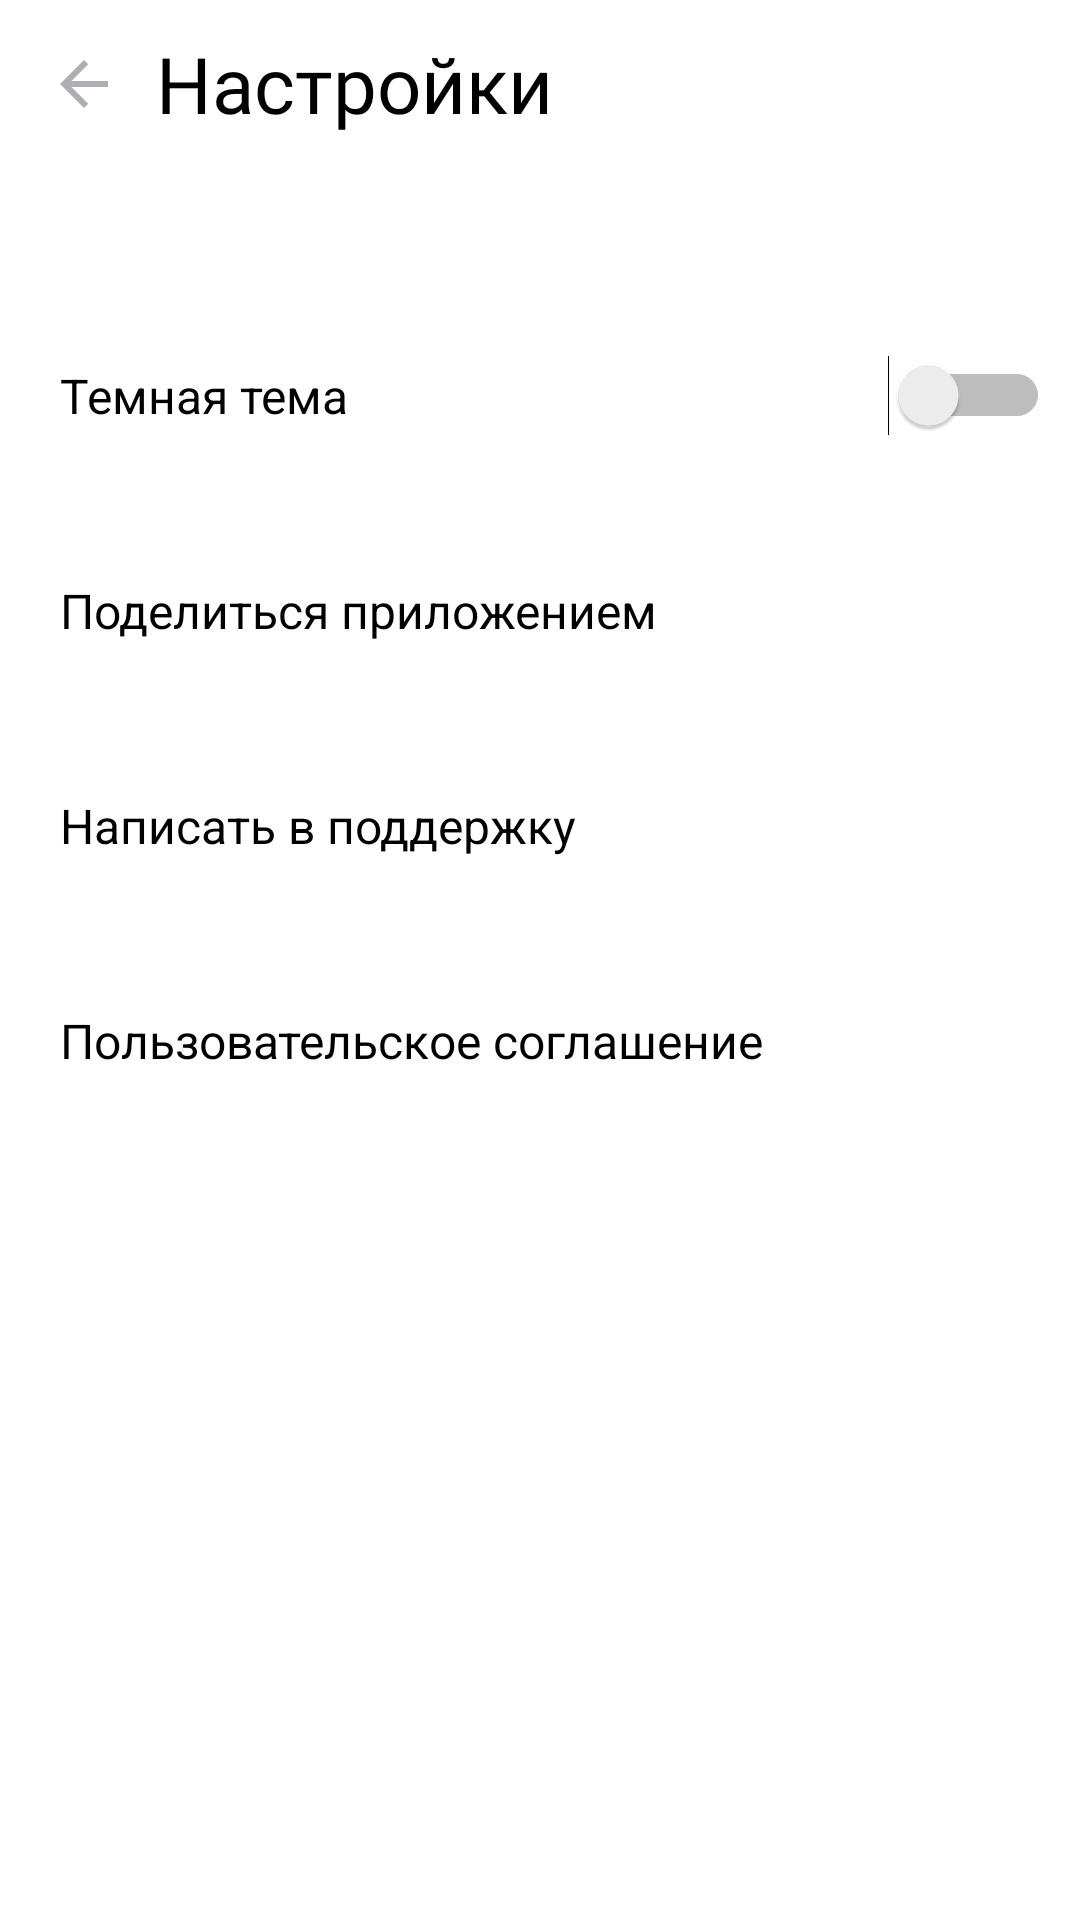

Icons on this 1080x1920 Android screen, each with its box as (x1, y1, x2, y2):
arrowback: (60, 60, 108, 108)
